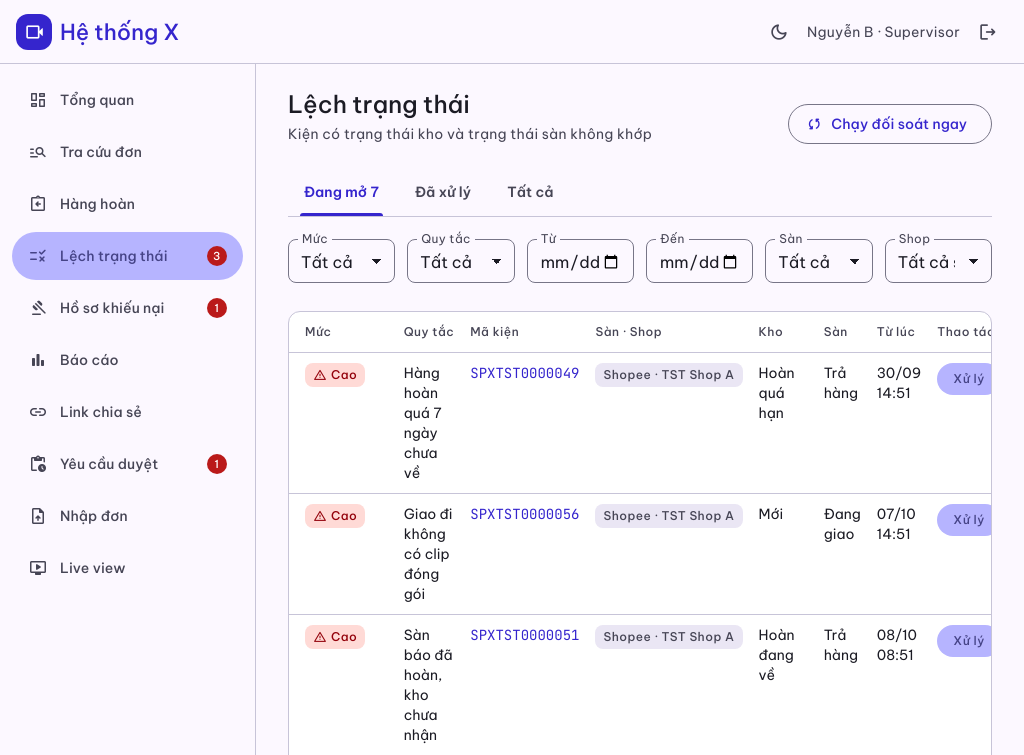
Scenario: TC-06.02 (UI): lọc mức Cao → URL; tab Đã xử lý / Tất cả có cột kết quả
Select "Cao" in the dropdown labelled "Mức" at [342, 261], box [288,239,395,283]
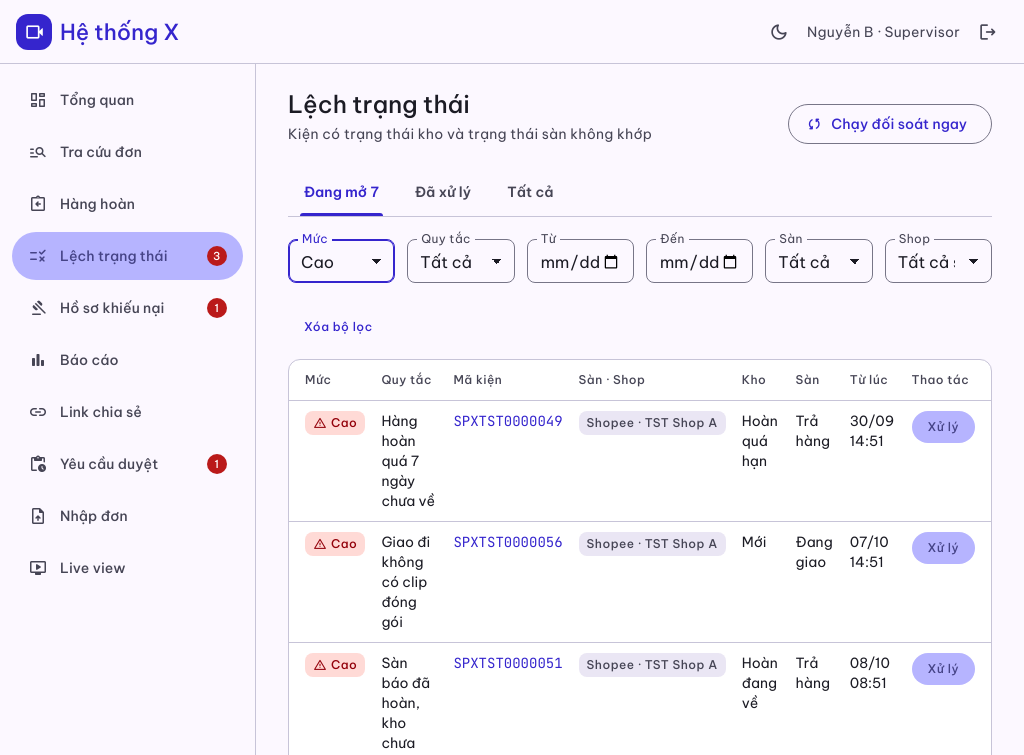
Expected: the text "Hàng hoàn quá 7 ngày chưa về" is shown, [373,401,445,522]
Click the button "Xóa bộ lọc".
click(338, 327)  # box [288,311,389,343]
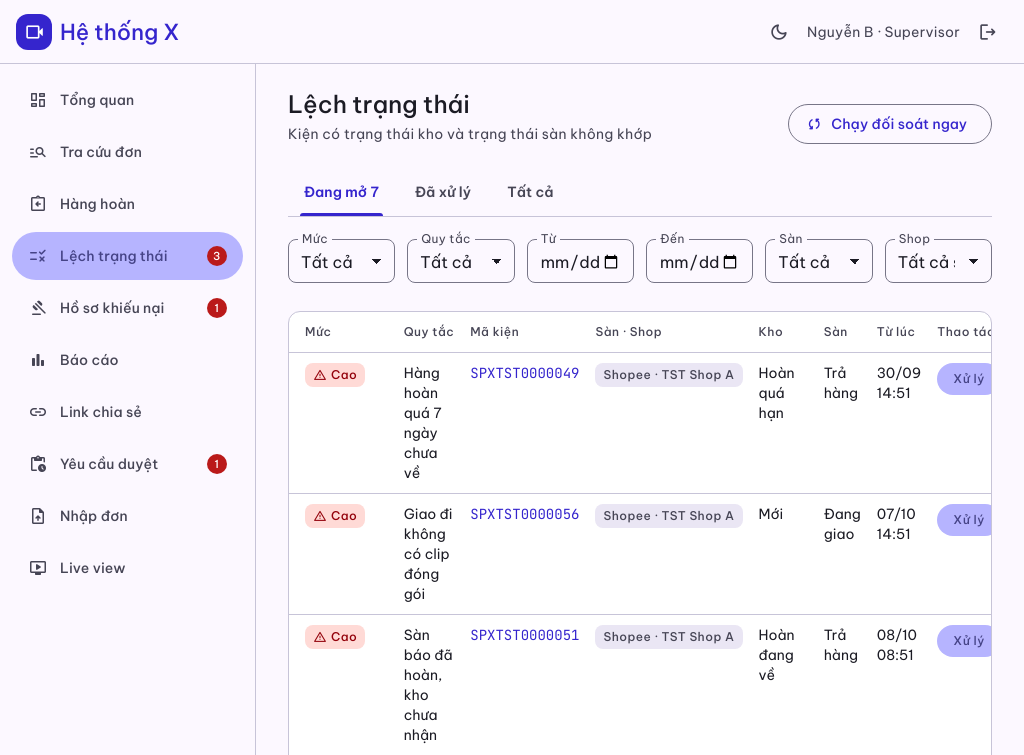
Click the tab "Đã xử lý".
click(443, 192)  # box [399,168,487,216]
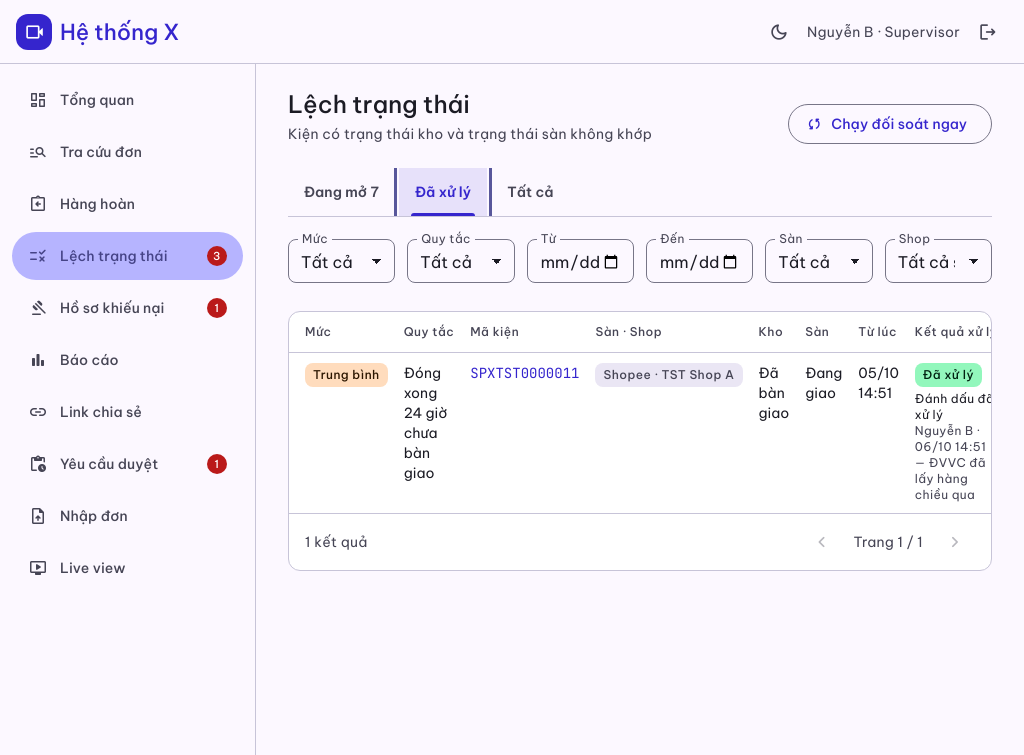
Now the number of rows is 2, box [289,312,991,352]; [289,353,991,513]
Now the row that starts with "Trung bình" shows "Đánh dấu đã xử lý", box [915,391,991,422]
Now the row that starts with "Trung bình" shows "Nguyễn B", box [915,423,986,454]
Click the tab "Tất cả".
click(530, 192)  # box [491,168,570,216]
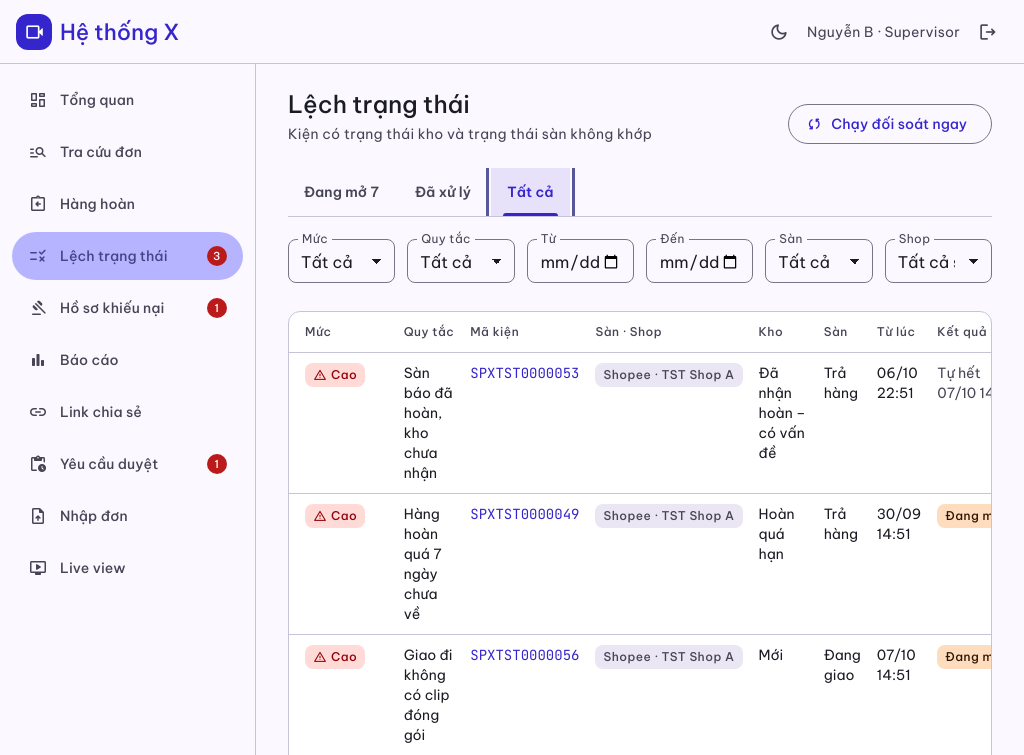
Now the text "Tự hết 07/10 14:51" is shown, box [937,364,991,402]
